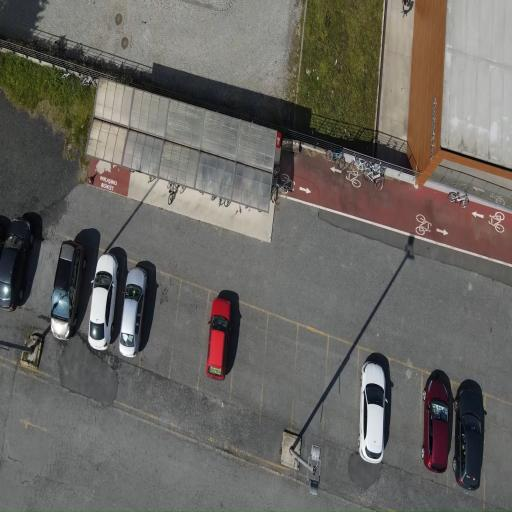harvester: (364, 164, 385, 190), (326, 150, 345, 170), (346, 157, 367, 173), (364, 164, 383, 181), (448, 192, 468, 208), (271, 165, 279, 202), (279, 174, 293, 194), (168, 182, 178, 204), (81, 76, 93, 85), (219, 198, 230, 207), (61, 72, 71, 78), (179, 185, 186, 193)
person: (453, 380, 486, 490), (51, 241, 86, 339), (0, 218, 33, 310), (89, 254, 119, 350), (359, 362, 386, 463), (422, 379, 449, 473), (120, 267, 147, 356), (206, 298, 230, 379)
